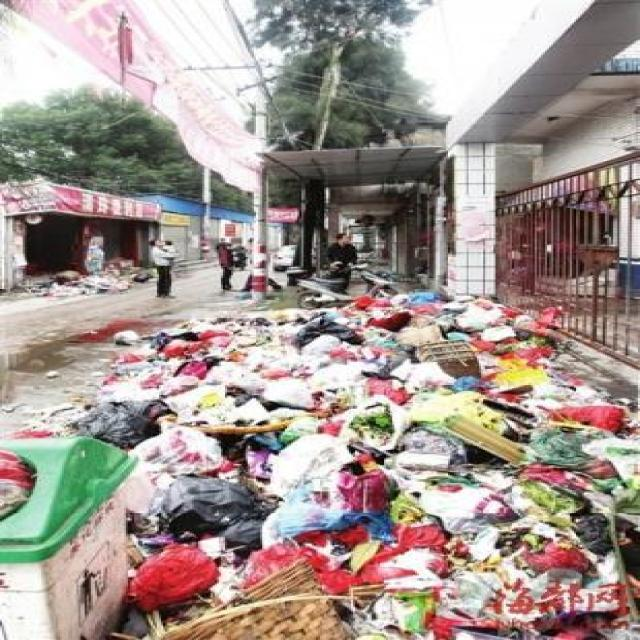garbage: (132, 316, 506, 638), (475, 454, 638, 580), (504, 384, 640, 465), (358, 282, 504, 322)
